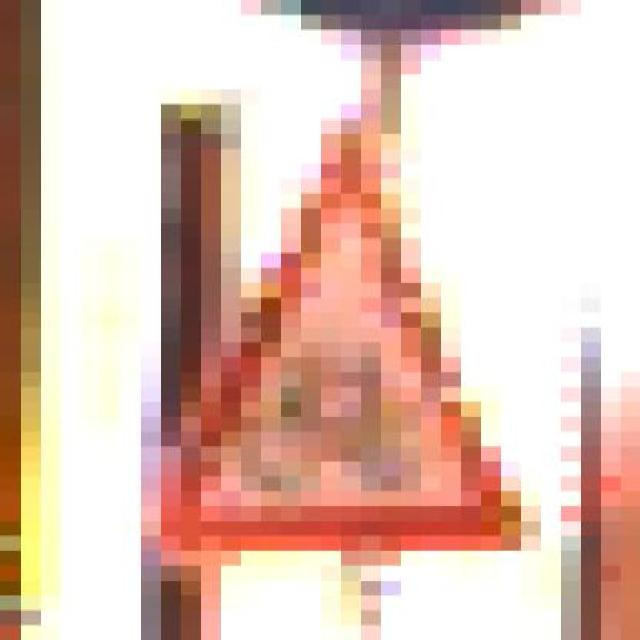CYCLE ROUTE AHEAD WARNING: (138, 88, 538, 594)
